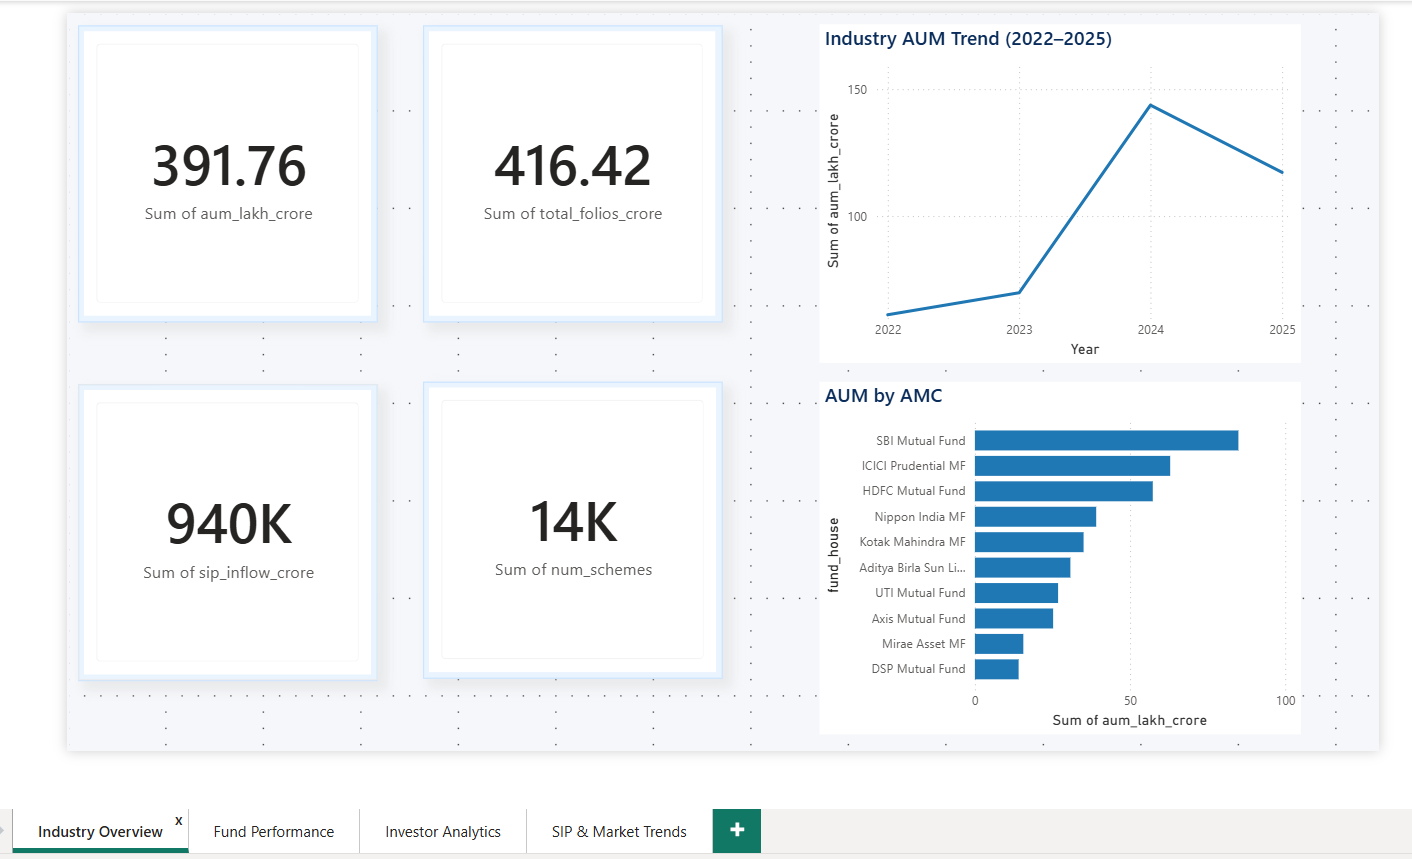

The dashboard page shown, as its layout file describes it:
{"tool":"powerbi","page":{"name":"Industry Overview","canvas":[1280,720],"ordinal":0},"visuals":[{"type":"cardVisual","fields":{"Data":["Sum(clean_aum_by_fund_house.aum_lakh_crore)"]},"box":[11,12.2,292.3,289.8],"z":0},{"type":"cardVisual","fields":{"Data":["Sum(clean_monthly_sip_inflows.sip_inflow_crore)"]},"box":[11,362,292.3,289.8],"z":1000},{"type":"cardVisual","fields":{"Data":["Sum(clean_industry_folio_count.total_folios_crore)"]},"box":[347.5,12.1,292,289.5],"z":2000},{"type":"cardVisual","fields":{"Data":["Sum(clean_aum_by_fund_house.num_schemes)"]},"box":[347.3,359.5,292.3,289.8],"z":3000},{"type":"lineChart","title":"Industry AUM Trend (2022–2025)","fields":{"Category":["clean_aum_by_fund_house.date.Variation.Date Hierarchy.Year","clean_aum_by_fund_house.date.Variation.Date Hierarchy.Quarter","clean_aum_by_fund_house.date.Variation.Date Hierarchy.Month","clean_aum_by_fund_house.date.Variation.Date Hierarchy.Day"],"Y":["Sum(clean_aum_by_fund_house.aum_lakh_crore)"]},"box":[733.7,11,469.6,330.2],"z":4000},{"type":"clusteredBarChart","title":"AUM by AMC","fields":{"Category":["clean_aum_by_fund_house.fund_house"],"Y":["Sum(clean_aum_by_fund_house.aum_lakh_crore)"]},"box":[733.7,359.5,469.6,343.6],"z":5000}]}

Visuals, with their boxes on the page's 1280x720 design canvas (x1, y1, x2, y2). These are canvas units, not pixel positions in the 1412x859 screenshot, which may show the page scaled, cropped or inside an application window:
cardVisual - Sum(clean_aum_by_fund_house.aum_lakh_crore): l=11, t=12, r=303, b=302
cardVisual - Sum(clean_monthly_sip_inflows.sip_inflow_crore): l=11, t=362, r=303, b=652
cardVisual - Sum(clean_industry_folio_count.total_folios_crore): l=348, t=12, r=640, b=302
cardVisual - Sum(clean_aum_by_fund_house.num_schemes): l=347, t=360, r=640, b=649
"Industry AUM Trend (2022–2025)" lineChart: l=734, t=11, r=1203, b=341
"AUM by AMC" clusteredBarChart: l=734, t=360, r=1203, b=703
